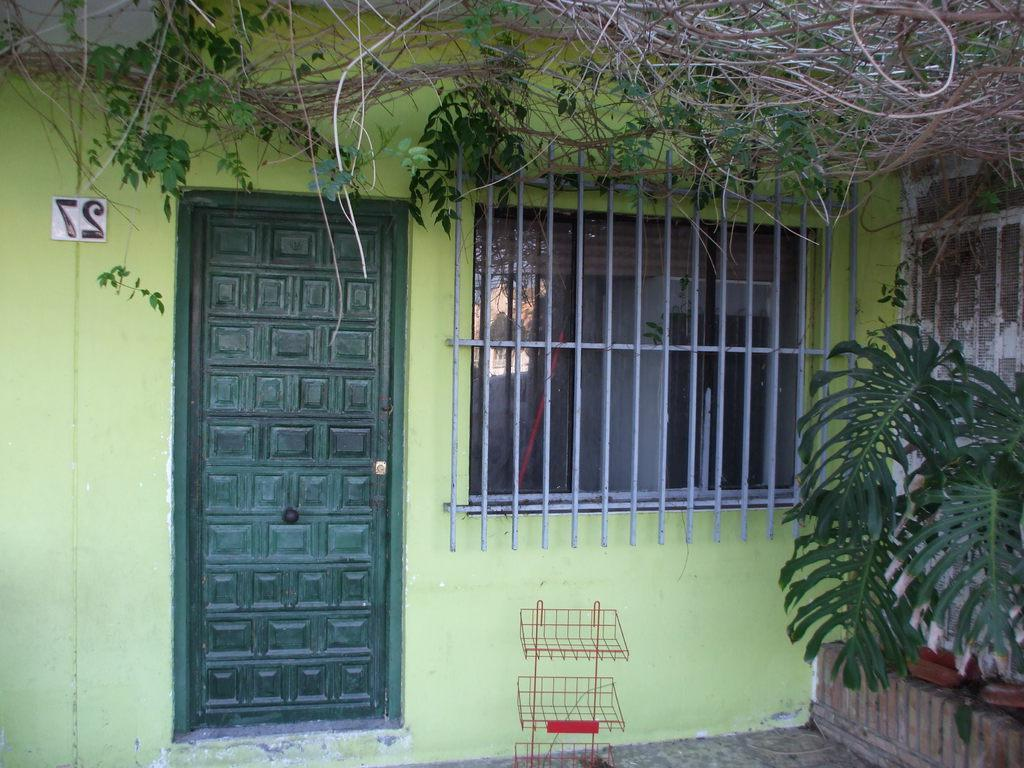door: (200, 224, 378, 709)
handle: (278, 496, 304, 528)
